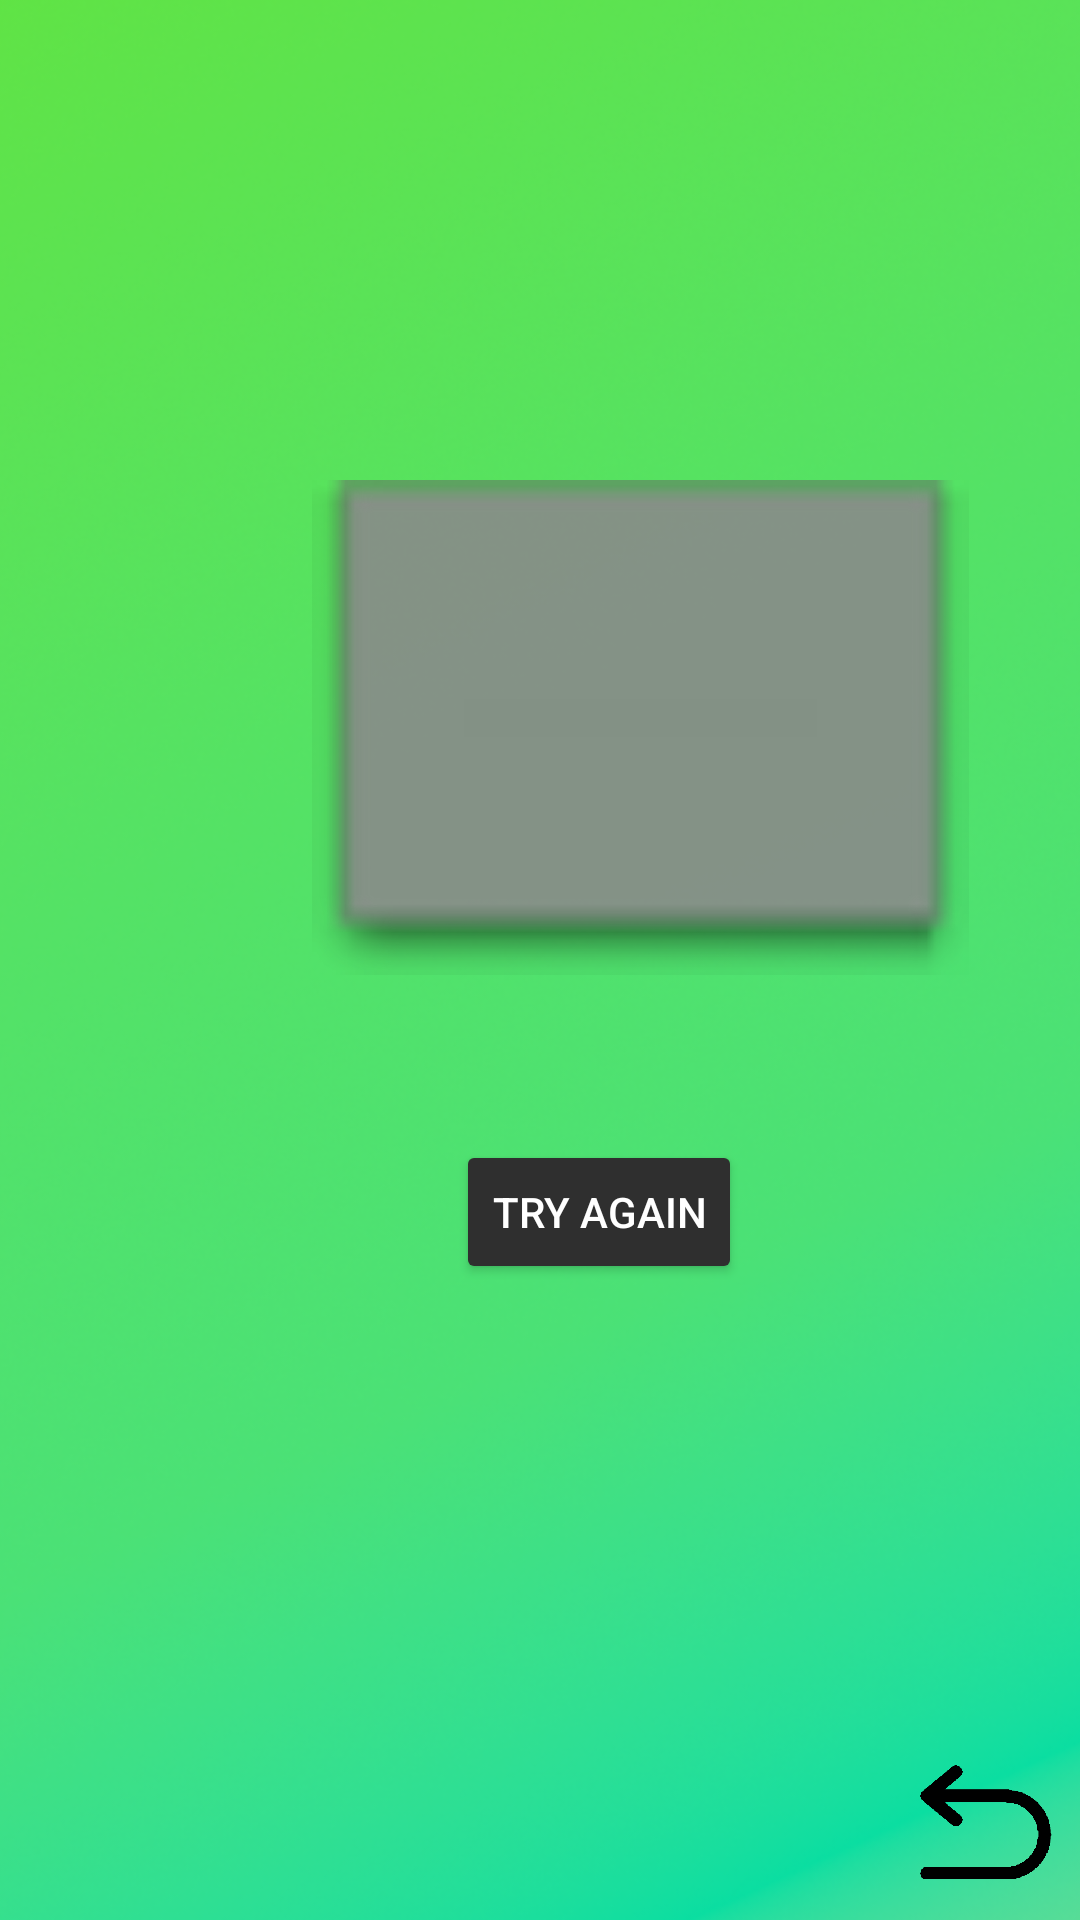

Point at icon controls on the screen. Image size 1080px×1920px, points as (x,y).
buttonbackblack: (984,1824)
